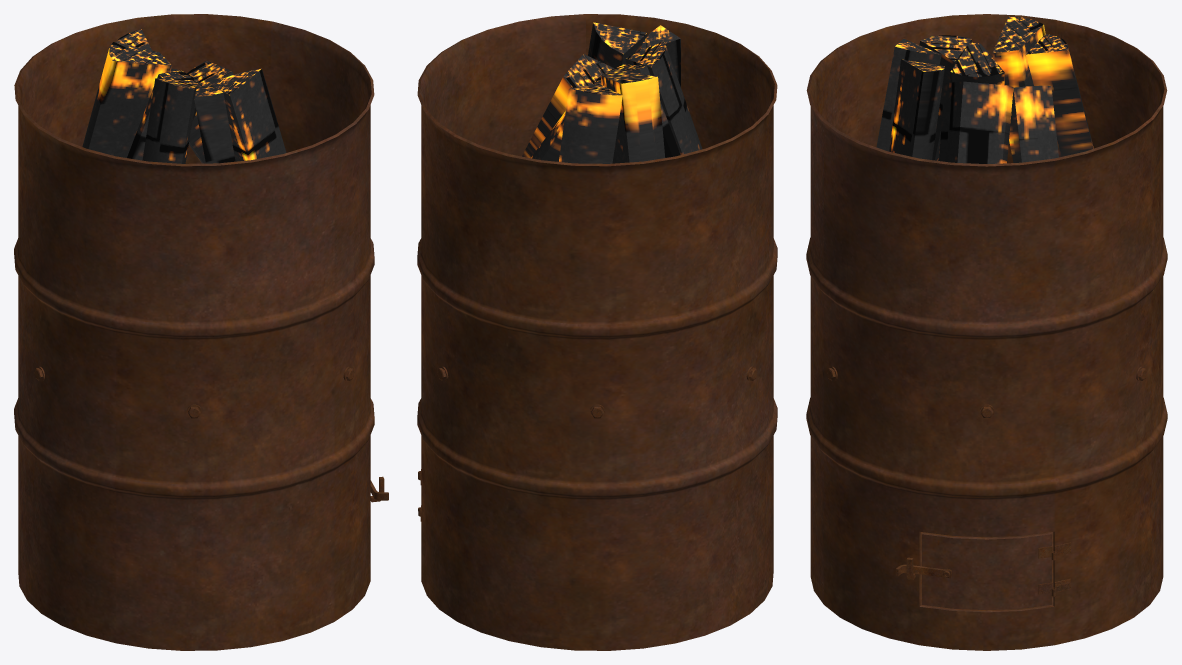
Rendered from Rusty Burn Barrel.fbx.
3 views of the same model, side by side, from view 1: azimuth 30°, elevation 25°; view 2: azimuth 150°, elevation 25°; view 3: azimuth 270°, elevation 25° (orthographic).
Parts seen in each view (by area): view 1: Barrel, FireWood; view 2: Barrel, FireWood; view 3: Barrel, FireWood, Door.
Part boxes in pixels (<box>): Barrel: <box>14,14,374,650</box>; FireWood: <box>82,29,286,163</box>; Barrel: <box>417,14,777,650</box>; FireWood: <box>522,22,702,163</box>; Barrel: <box>806,14,1167,650</box>; FireWood: <box>876,16,1093,163</box>; Door: <box>921,533,1052,610</box>.
Size of the model in its own units: 61.79 by 98.79 by 61.41.
